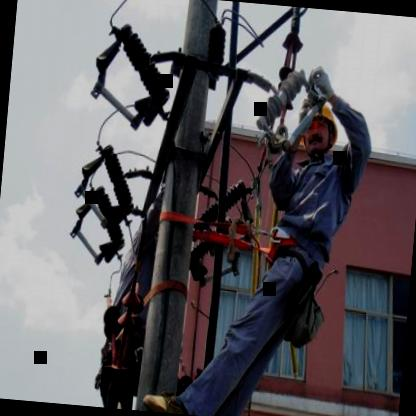helmet: (303, 96, 341, 160)
